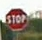stop: (4, 7, 27, 31)
